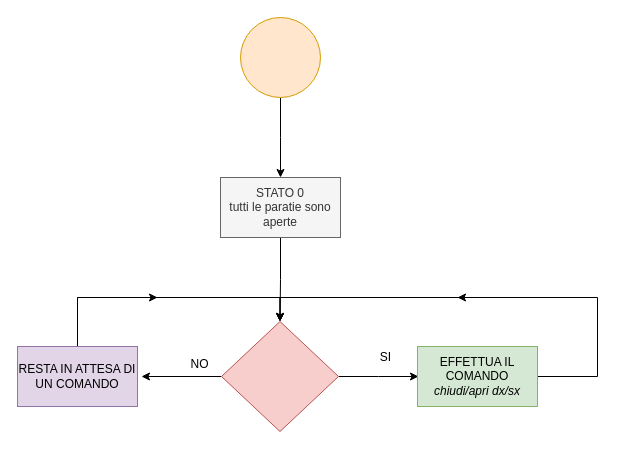
The diagram is 623 pixels wide and 449 high, and some of its shapes have lost their labels. Here are the shapes that lost their labels. From the top down, the centre of each, then its label:
At point (280, 57): "INIZIO".
At point (279, 376): "c'è un messaggio?".
